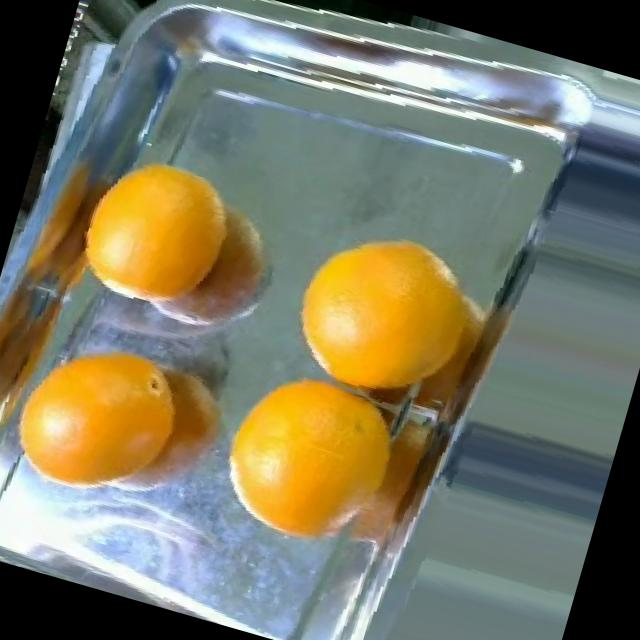Fruit: (186, 340, 447, 584), (0, 301, 241, 538), (54, 120, 290, 348)
